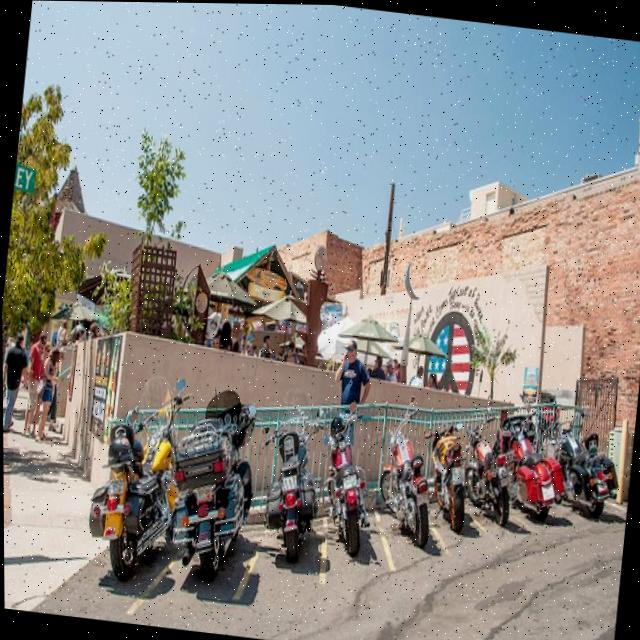motorcycle: (81, 357, 193, 592), (164, 394, 276, 592), (248, 413, 339, 567), (308, 411, 393, 569), (367, 418, 449, 557), (496, 405, 581, 529), (415, 418, 493, 546), (547, 407, 623, 523), (458, 418, 529, 532)
